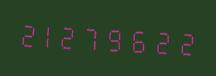nine: (105, 19, 126, 56)
one: (39, 16, 60, 53)
seven: (83, 18, 104, 55)
six: (127, 21, 148, 58)
two: (17, 15, 38, 52), (61, 17, 82, 54), (149, 22, 170, 59), (171, 23, 192, 60)
